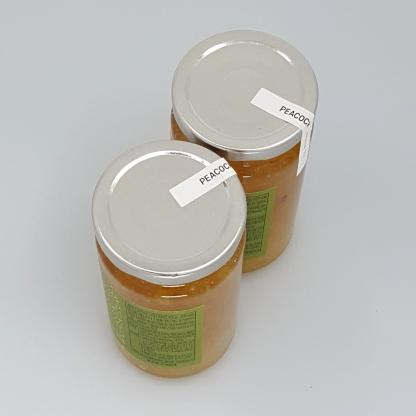------------420G: (92, 140, 248, 379), (169, 29, 319, 274)
